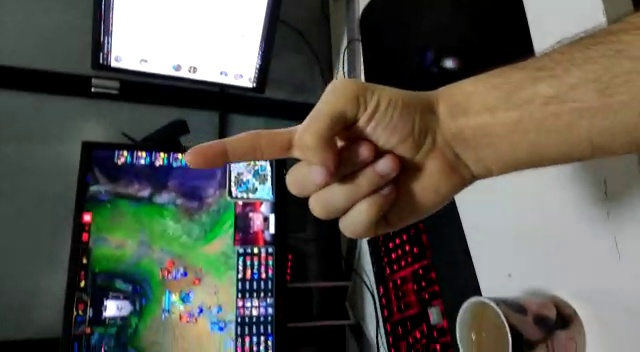One: (189, 80, 421, 241)
